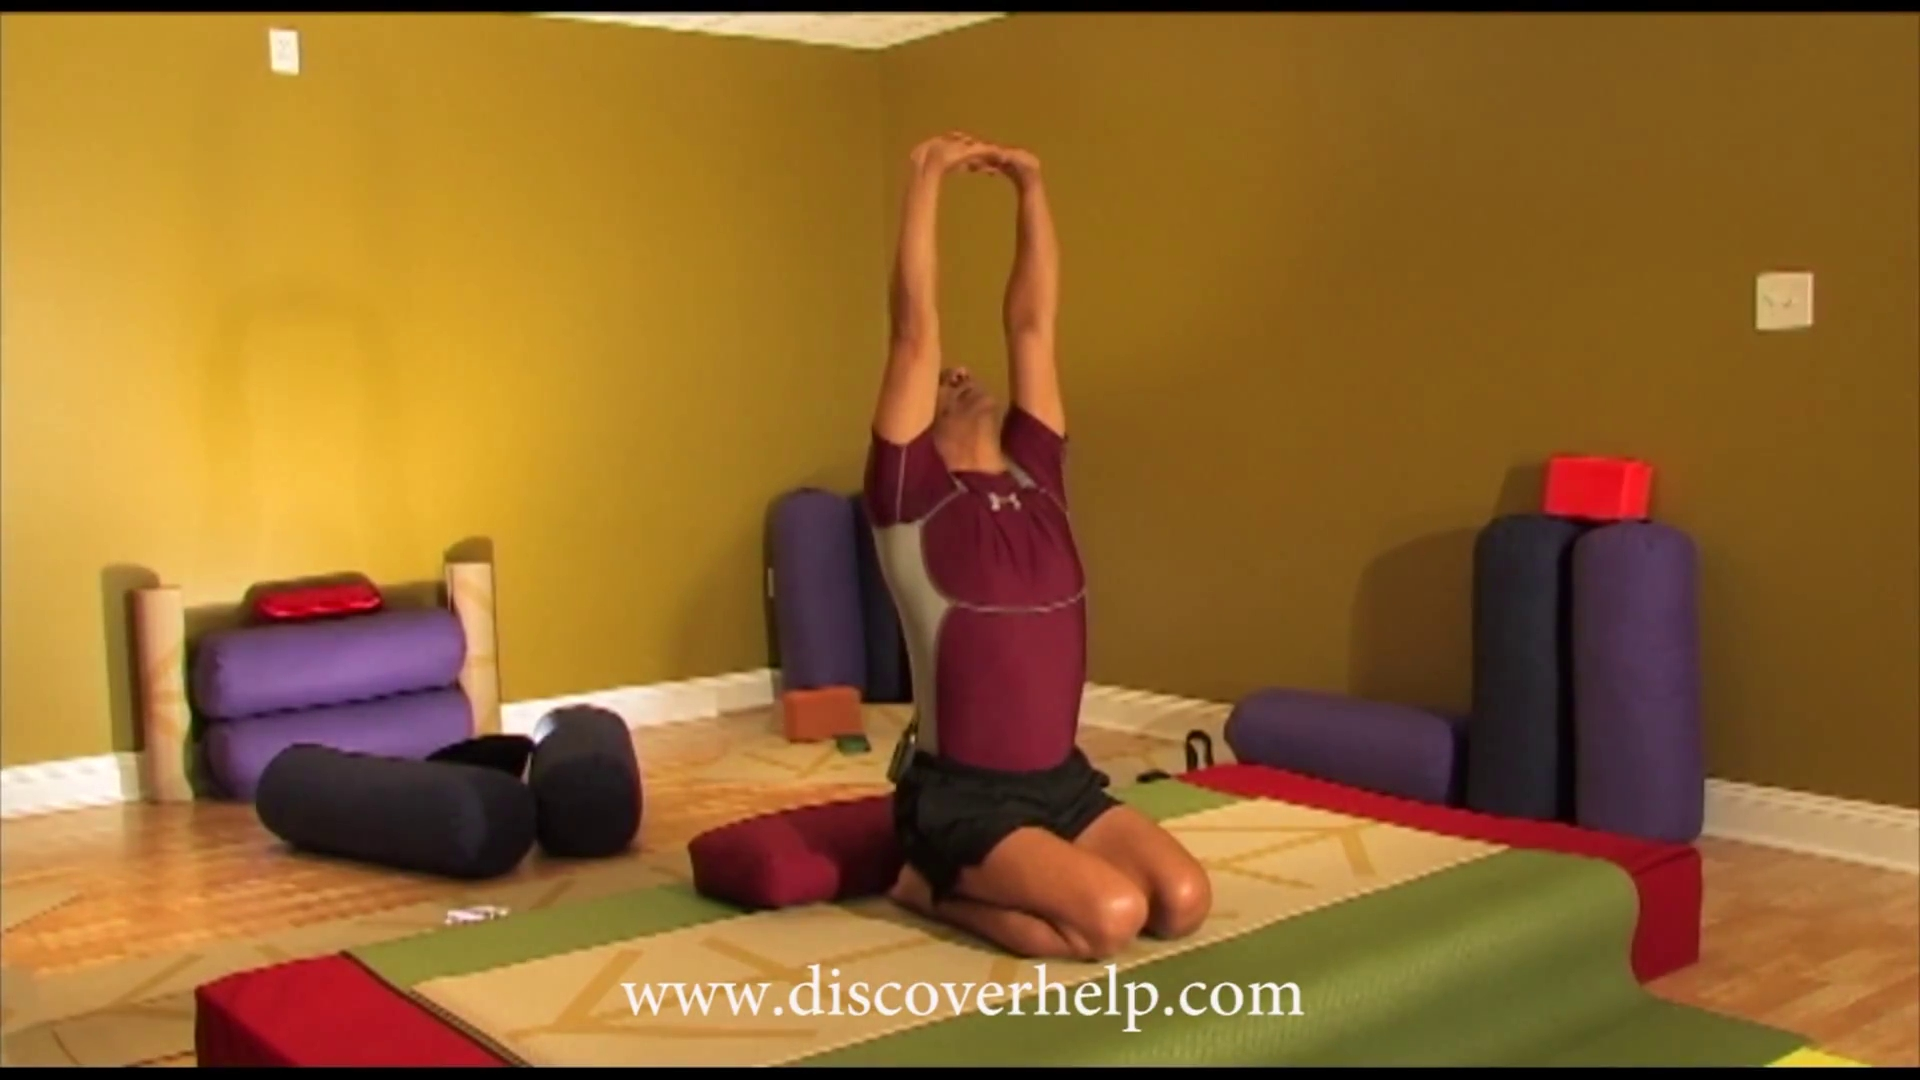person: (862, 132, 1214, 962)
